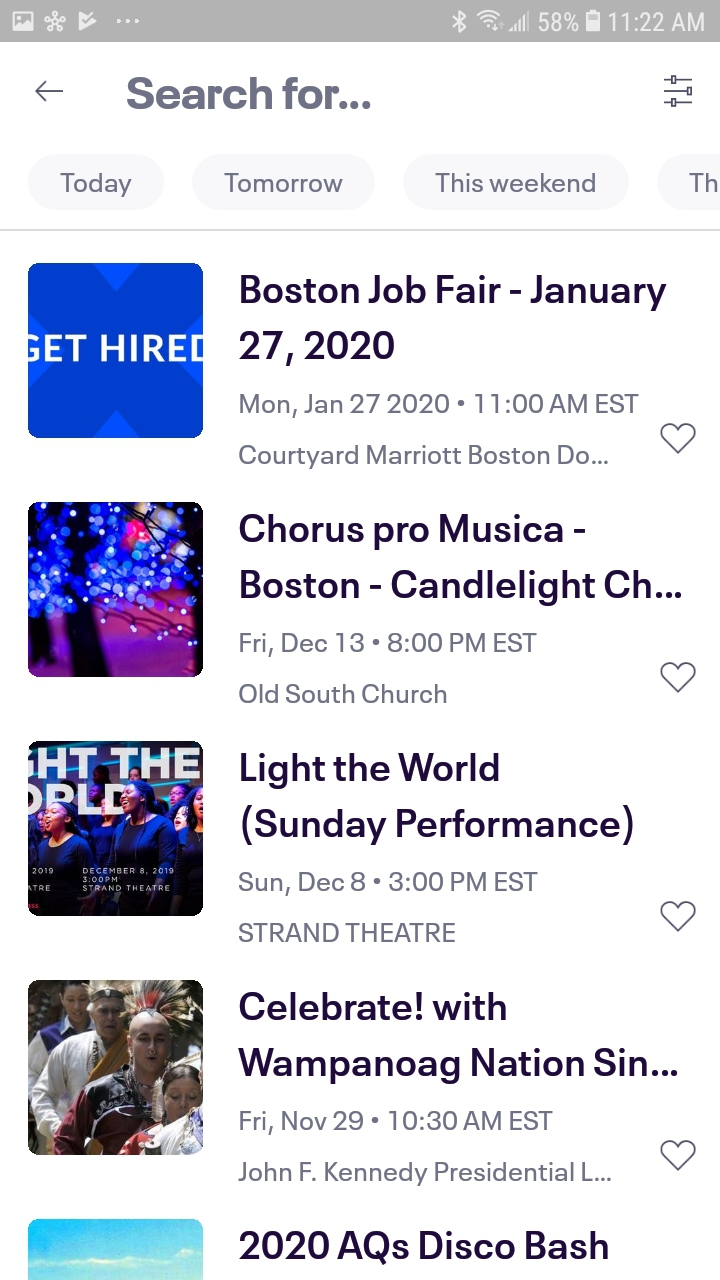Icon: (659, 1139, 696, 1172), (660, 900, 697, 933), (660, 662, 697, 694), (660, 423, 697, 455), (664, 76, 693, 109), (36, 81, 65, 103)
Image: (28, 980, 204, 1156), (28, 741, 204, 917), (28, 502, 204, 678), (28, 263, 204, 439), (28, 1218, 204, 1280)
Text: (240, 513, 682, 607), (238, 991, 678, 1085), (239, 274, 668, 367), (241, 752, 634, 846), (239, 393, 640, 470), (238, 1110, 612, 1187), (239, 871, 539, 943), (239, 632, 538, 704), (239, 1230, 609, 1266), (127, 77, 372, 111)
TextButton: (403, 154, 629, 211), (193, 154, 376, 211), (29, 154, 165, 211), (657, 154, 720, 211)
UpperTaskBar: (1, 1, 720, 43)
